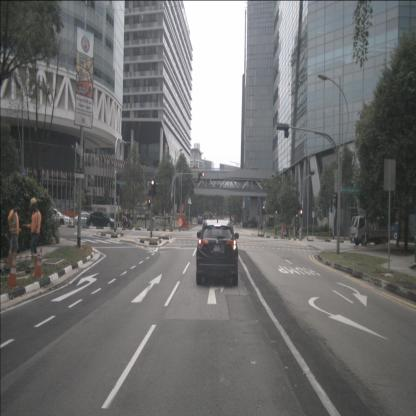human-pedestrian-adult: (257, 218, 264, 237), (123, 212, 128, 230), (286, 225, 290, 240), (283, 224, 287, 239), (298, 226, 302, 241), (152, 215, 155, 231), (281, 223, 283, 240)
movable_object-barrier: (182, 220, 189, 228)
movable_object-trafficcone: (5, 252, 20, 290), (32, 248, 44, 280), (6, 235, 16, 266)
vehicle-car: (196, 220, 238, 286), (40, 208, 72, 226), (86, 210, 116, 229), (73, 213, 97, 228), (209, 212, 214, 220), (198, 216, 202, 225)
vehicle-motorcycle: (121, 212, 132, 230)
vehicle-truck: (350, 216, 394, 247)
